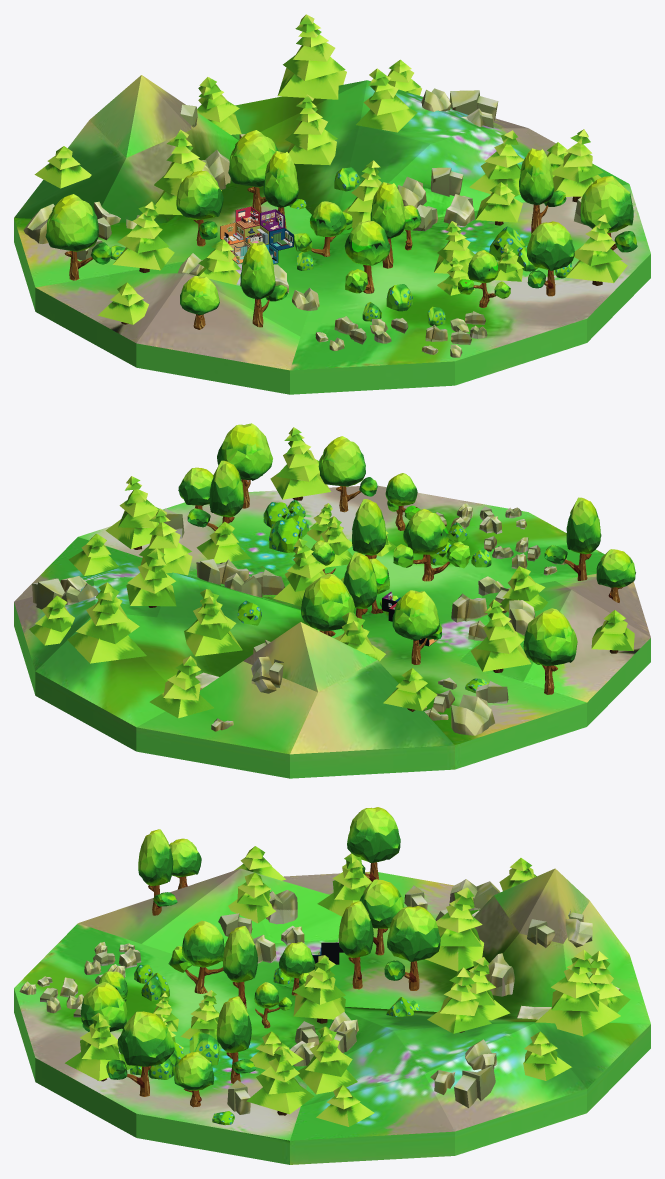
The model's file is house-isometric.glb.
The picture shows the model from 3 angles, top to bottom: view 1: azimuth 30°, elevation 25°; view 2: azimuth 150°, elevation 25°; view 3: azimuth 270°, elevation 25°; orthographic projection.
Visible parts, largest first — view 1: Cylinder004, Hedra024, Hedra039, Hedra008, Hedra006, Hedra037, Hedra027, Hedra023, Hedra020, Hedra010, Cone021, Hedra035 (+29 smaller); view 2: Cylinder004, Hedra024, Hedra008, Hedra039, Hedra006, Hedra037, Hedra010, Hedra027, Hedra020, Hedra035, Cone021, Hedra023 (+30 smaller); view 3: Cylinder004, Hedra039, Hedra008, Hedra024, Hedra020, Hedra035, Hedra023, Hedra010, Hedra027, Hedra037, Hedra006, Cone021 (+32 smaller).
Boxes of the visible parts, x1=… form: Cylinder004: x1=14, y1=75, x2=650, y2=394; Hedra024: x1=45, y1=194, x2=98, y2=251; Hedra039: x1=580, y1=176, x2=633, y2=232; Hedra008: x1=228, y1=130, x2=278, y2=187; Hedra006: x1=176, y1=170, x2=223, y2=220; Hedra037: x1=527, y1=221, x2=574, y2=270; Hedra027: x1=240, y1=242, x2=275, y2=299; Hedra023: x1=263, y1=151, x2=298, y2=207; Hedra020: x1=519, y1=148, x2=554, y2=205; Hedra010: x1=344, y1=220, x2=390, y2=265; Cone021: x1=277, y1=68, x2=346, y2=99; Hedra035: x1=370, y1=182, x2=405, y2=238; Cylinder004: x1=14, y1=485, x2=650, y2=778; Hedra024: x1=523, y1=608, x2=577, y2=665; Hedra008: x1=301, y1=573, x2=354, y2=631; Hedra039: x1=217, y1=423, x2=272, y2=480; Hedra006: x1=392, y1=590, x2=439, y2=640; Hedra037: x1=318, y1=436, x2=365, y2=486; Hedra010: x1=403, y1=508, x2=448, y2=554; Hedra027: x1=566, y1=497, x2=601, y2=554; Hedra020: x1=209, y1=460, x2=244, y2=517; Hedra035: x1=352, y1=499, x2=386, y2=555; Cone021: x1=67, y1=632, x2=146, y2=663; Hedra023: x1=343, y1=552, x2=377, y2=608; Cylinder004: x1=14, y1=868, x2=650, y2=1164; Hedra039: x1=117, y1=1011, x2=174, y2=1066; Hedra008: x1=387, y1=906, x2=440, y2=961; Hedra024: x1=347, y1=807, x2=400, y2=862; Hedra020: x1=216, y1=996, x2=251, y2=1052; Hedra035: x1=223, y1=926, x2=257, y2=982; Hedra023: x1=338, y1=901, x2=373, y2=957; Hedra010: x1=181, y1=920, x2=224, y2=967; Hedra027: x1=138, y1=829, x2=173, y2=885; Hedra037: x1=80, y1=982, x2=127, y2=1031; Hedra006: x1=359, y1=879, x2=404, y2=928; Cone021: x1=535, y1=1000, x2=620, y2=1036.
Bounding box in the file's own units: 129 × 28.98 × 129.
Materials: 3 (3 with a texture image).
